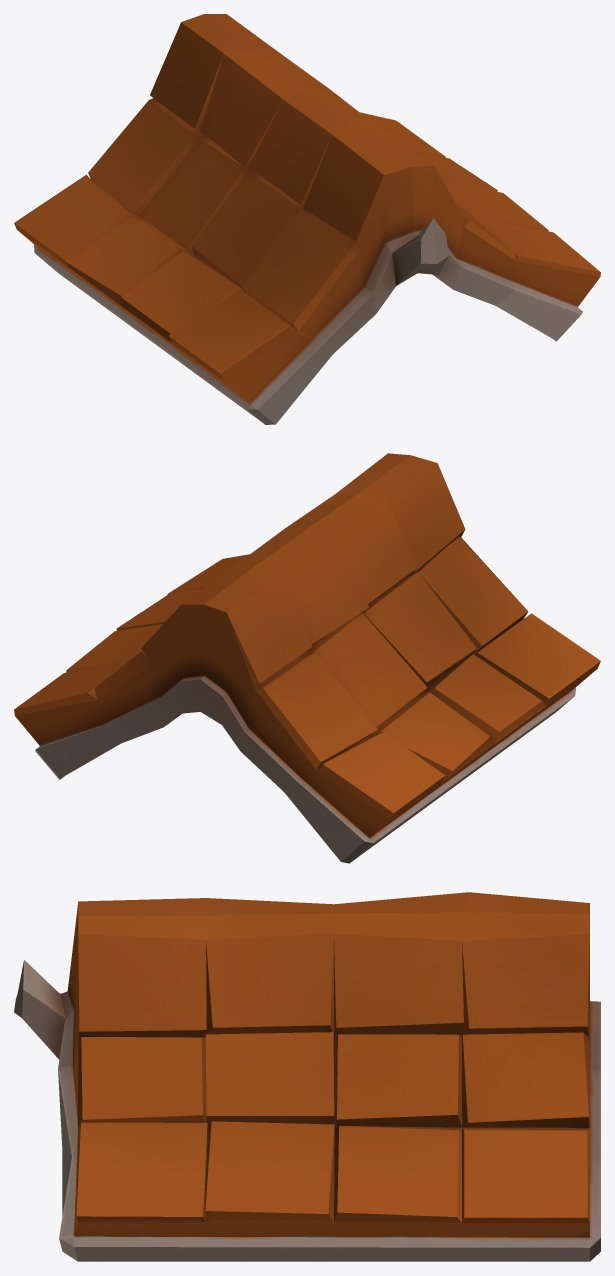
File: intro_prop(ceiling_house)_01.FBX
The picture shows the model from 3 angles, top to bottom: view 1: azimuth 30°, elevation 25°; view 2: azimuth 150°, elevation 25°; view 3: azimuth 270°, elevation 25°; orthographic projection. The views are drawn at different scales.
Visible parts, largest first — view 1: ceiling_house001; view 2: ceiling_house001; view 3: ceiling_house001.
Boxes of the visible parts, x1=… form: ceiling_house001: x1=14, y1=14, x2=600, y2=424; ceiling_house001: x1=14, y1=453, x2=600, y2=863; ceiling_house001: x1=14, y1=892, x2=600, y2=1261.
Size of what is drawn, in the model's own units: 189 by 106 by 200.
